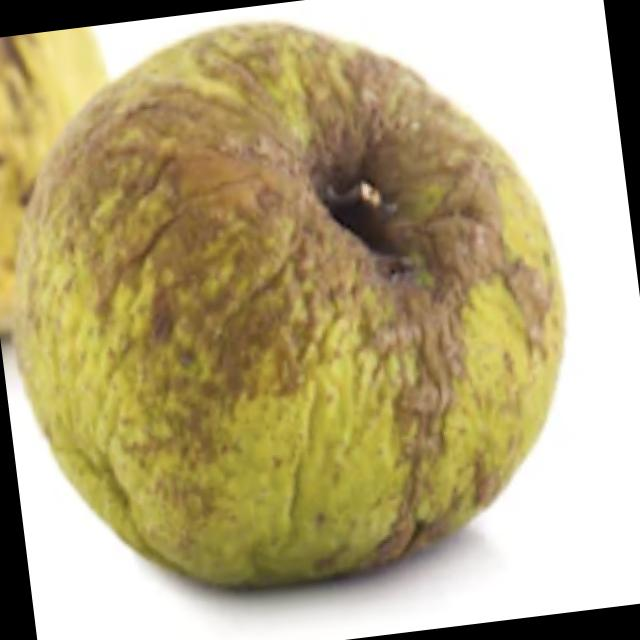rotten_apple: (0, 0, 595, 611)
